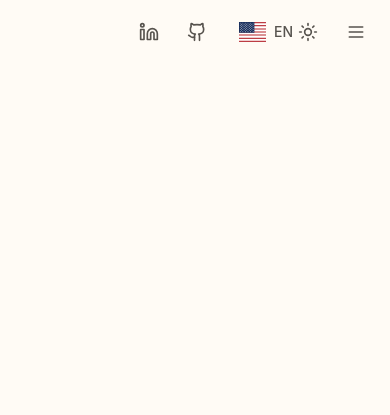
Test case: Header › should show background when menu is open
The width and height of the screenshot is (390, 415).
Click the button named "Toggle menu". click: [356, 32]
box: top-left (338, 14), bottom-right (374, 50)
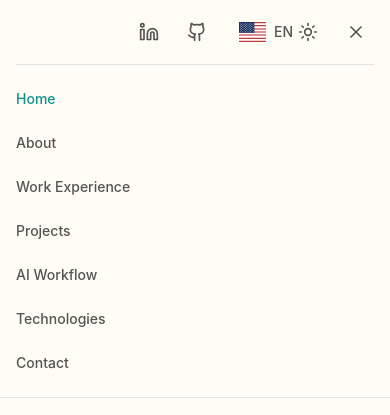
Check: the element that starts with "Home" is shown
